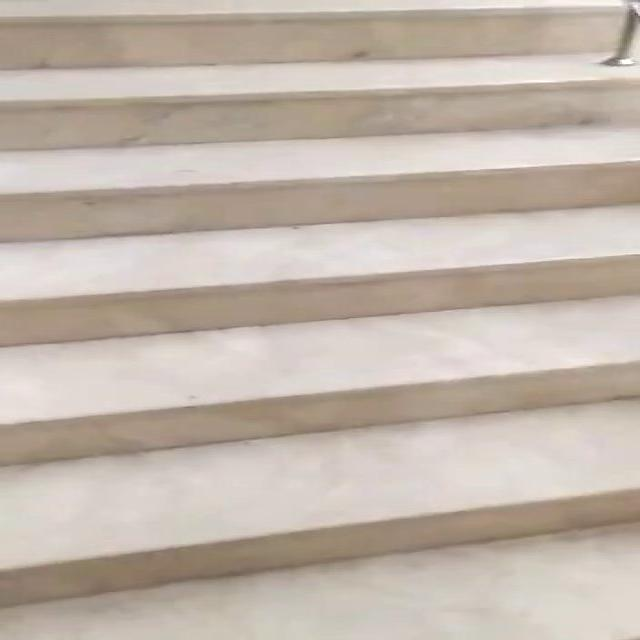stair: (15, 4, 640, 640)
